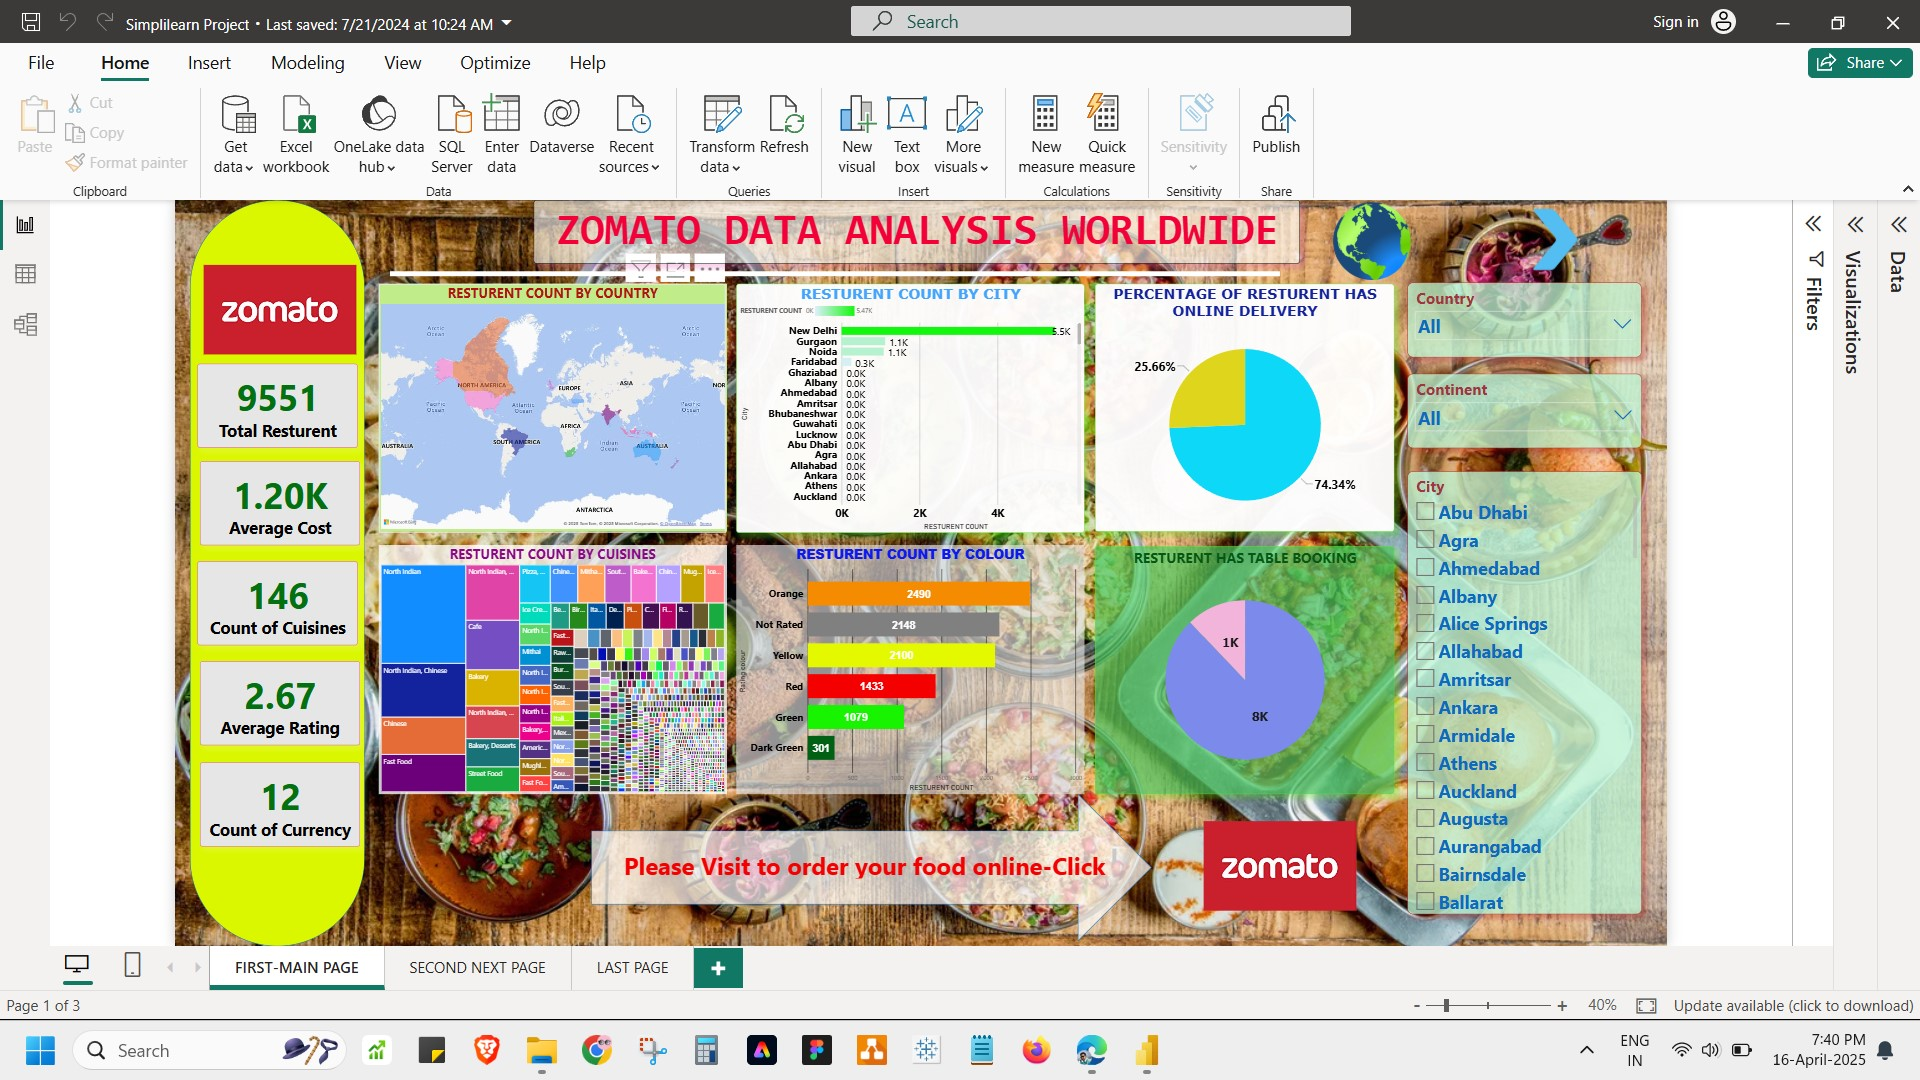

Layout of this report page (visuals, bound fields, positions):
{"tool":"powerbi","page":{"name":"FIRST-MAIN PAGE","canvas":[3000,1500],"ordinal":0},"visuals":[{"type":"shape","box":[30,0,351.3,1500.6],"z":0},{"type":"card","fields":{"Values":["FACT TABLE.AVG COST"]},"box":[49,525.6,321.4,168.8],"z":1000},{"type":"card","fields":{"Values":["CUSINE-x.Measure"]},"box":[46.3,727.1,321.4,168.8],"z":2000},{"type":"card","fields":{"Values":["FACT TABLE.Average Rating"]},"box":[49,925.9,321.4,168.8],"z":3000},{"type":"card","fields":{"Values":["Zomato Global.RESTURENT COUNT"]},"box":[46.3,329.5,321.4,168.8],"z":4000},{"type":"filledMap","title":"RESTURENT COUNT BY COUNTRY","fields":{"Category":["Country and Code.Country"],"Series":["Country and Code.Country"]},"box":[408.5,168.8,699.9,498.4],"z":5000},{"type":"treemap","title":"RESTURENT COUNT BY CUISINES","fields":{"Group":["Zomato Global.Cuisines"],"Values":["Zomato Global.RESTURENT COUNT"]},"box":[408.5,694.4,699.9,501.1],"z":6000},{"type":"slicer","fields":{"Values":["Country and Code.Country"]},"box":[2478.2,166.1,470,150],"z":7000},{"type":"slicer","fields":{"Values":["Country and Code.Continent"]},"box":[2478.2,348.6,471.1,149.8],"z":8000},{"type":"slicer","fields":{"Values":["Zomato Global.City"]},"box":[2478.2,544.7,471.1,890.5],"z":9000},{"type":"textbox","box":[721.1,0,1540.2,128.1],"z":10000},{"type":"image","box":[2063.3,1243.3,316.7,190],"z":11000},{"type":"image","box":[2301.5,0,208.5,165.8],"z":12000},{"type":"shape","box":[432.2,103,1788.9,90.5],"z":13000},{"type":"clusteredBarChart","title":"RESTURENT COUNT BY CITY","fields":{"Y":["Zomato Global.RESTURENT COUNT"],"Category":["Zomato Global.City"]},"box":[1127.5,168.8,699.9,501.1],"z":14000},{"type":"barChart","title":"RESTURENT COUNT BY COLOUR","fields":{"Category":["FACT TABLE.Rating colour"],"Y":["Zomato Global.RESTURENT COUNT"],"Series":["FACT TABLE.Rating colour"]},"box":[1127.5,694.4,699.9,501.1],"z":15000},{"type":"pieChart","title":"PERCENTAGE OF RESTURENT  HAS ONLINE DELIVERY","fields":{"Category":["FACT TABLE.Has Online delivery"],"Y":["Zomato Global.RESTURENT COUNT"]},"box":[1849.1,168.8,601.9,498.4],"z":16000},{"type":"pieChart","title":"RESTURENT HAS TABLE BOOKING","fields":{"Y":["Zomato Global.RESTURENT COUNT"],"Category":["FACT TABLE.Has Table booking"]},"box":[1849.1,697.2,601.9,498.4],"z":17000},{"type":"card","fields":{"Values":["Count(FACT TABLE.Currency)"]},"box":[49,1130.2,321.4,168.8],"z":18000},{"type":"image","box":[2600.8,13.6,348.6,133.4],"z":19000},{"type":"image","box":[53.3,126.7,316.7,190],"z":20000},{"type":"shape","box":[836.7,1193.3,1126.7,296.7],"z":21001},{"type":"textbox","box":[896.7,1300,1000,70],"z":21501}]}

Visuals, with their boxes on the page's 3000x1500 design canvas (x1, y1, x2, y2). These are canvas units, not pixel positions in the 1920x1080 screenshot, which may show the page scaled, cropped or inside an application window:
shape: BBox(30, 0, 381, 1501)
card - FACT TABLE.AVG COST: BBox(49, 526, 370, 694)
card - CUSINE-x.Measure: BBox(46, 727, 368, 896)
card - FACT TABLE.Average Rating: BBox(49, 926, 370, 1095)
card - Zomato Global.RESTURENT COUNT: BBox(46, 330, 368, 498)
"RESTURENT COUNT BY COUNTRY" filledMap: BBox(408, 169, 1108, 667)
"RESTURENT COUNT BY CUISINES" treemap: BBox(408, 694, 1108, 1196)
slicer - Country and Code.Country: BBox(2478, 166, 2948, 316)
slicer - Country and Code.Continent: BBox(2478, 349, 2949, 498)
slicer - Zomato Global.City: BBox(2478, 545, 2949, 1435)
textbox: BBox(721, 0, 2261, 128)
image: BBox(2063, 1243, 2380, 1433)
image: BBox(2302, 0, 2510, 166)
shape: BBox(432, 103, 2221, 194)
"RESTURENT COUNT BY CITY" clusteredBarChart: BBox(1128, 169, 1827, 670)
"RESTURENT COUNT BY COLOUR" barChart: BBox(1128, 694, 1827, 1196)
"PERCENTAGE OF RESTURENT  HAS ONLINE DELIVERY" pieChart: BBox(1849, 169, 2451, 667)
"RESTURENT HAS TABLE BOOKING" pieChart: BBox(1849, 697, 2451, 1196)
card - Count(FACT TABLE.Currency): BBox(49, 1130, 370, 1299)
image: BBox(2601, 14, 2949, 147)
image: BBox(53, 127, 370, 317)
shape: BBox(837, 1193, 1963, 1490)
textbox: BBox(897, 1300, 1897, 1370)
